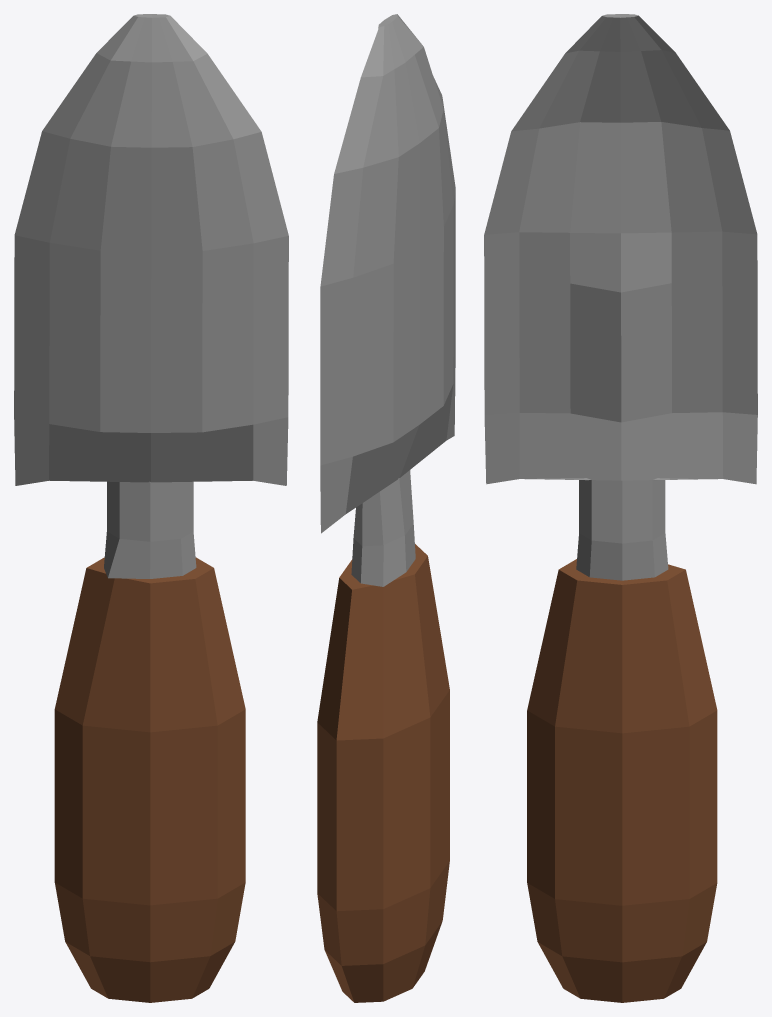
The model's file is trowel01.obj.
The picture shows the model from 3 angles, left to right: view 1: azimuth 90°, elevation 25°; view 2: azimuth 150°, elevation 25°; view 3: azimuth 270°, elevation 25°; orthographic projection.
Parts seen in each view (by area): view 1: Cylinder; view 2: Cylinder; view 3: Cylinder.
Boxes of the visible parts, box(x1,y1,x2,y2) form: Cylinder: box(14, 14, 288, 1002); Cylinder: box(317, 14, 455, 1002); Cylinder: box(484, 14, 757, 1002).
Size of the model in its own units: 0.0261 by 0.2567 by 0.0656.
Materials: 1 (1 with a texture image).
